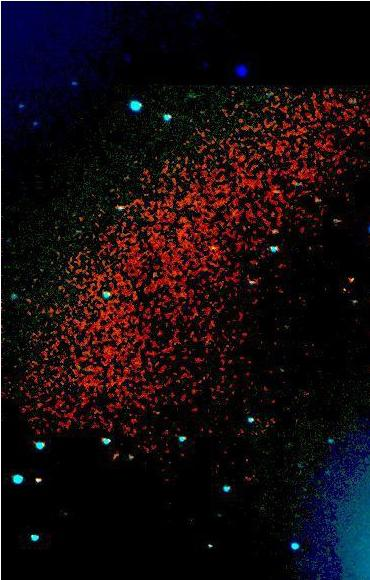star: (335, 265, 365, 295)
